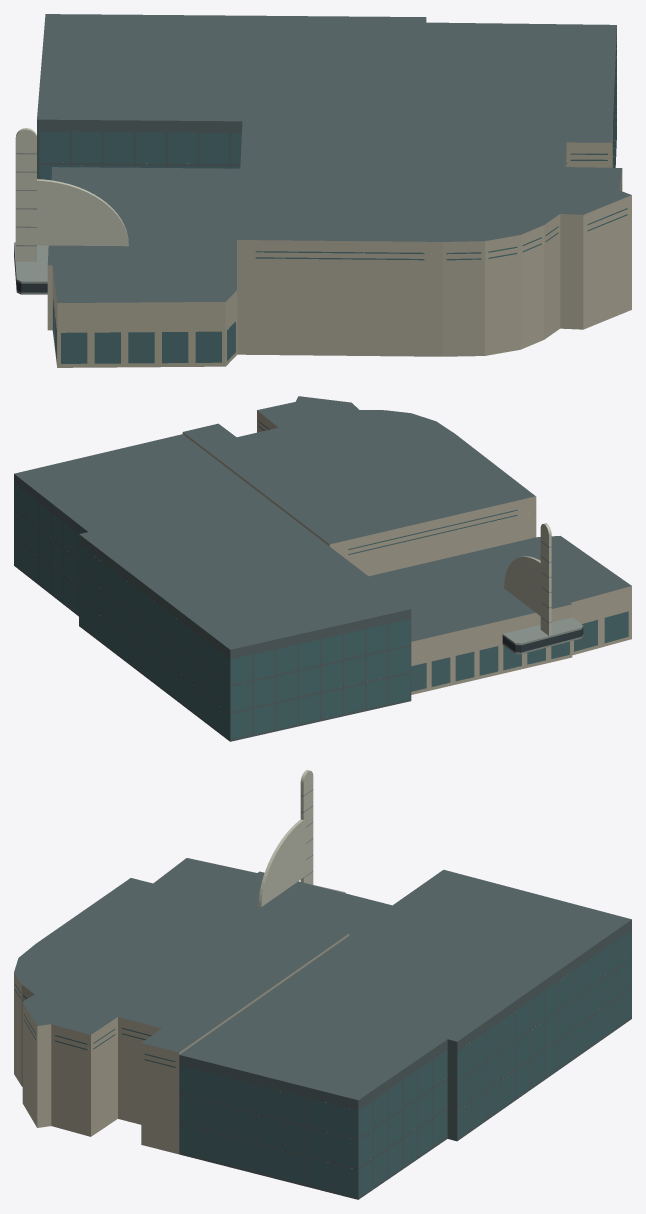
File: afi-silver-theatre-near.glb
The picture shows the model from 3 angles, top to bottom: view 1: azimuth 30°, elevation 25°; view 2: azimuth 150°, elevation 25°; view 3: azimuth 270°, elevation 25°; orthographic projection. The views are drawn at different scales.
Visible parts, largest first — view 1: afi-silver-theatre-0-steel, afi-silver-theatre-0-stone, afi-silver-theatre-0-glass, afi-silver-theatre-0-white, afi-silver-theatre-0-chrome; view 2: afi-silver-theatre-0-steel, afi-silver-theatre-0-glass, afi-silver-theatre-0-stone, afi-silver-theatre-0-white, afi-silver-theatre-0-chrome, afi-silver-theatre-0-screen; view 3: afi-silver-theatre-0-steel, afi-silver-theatre-0-glass, afi-silver-theatre-0-stone, afi-silver-theatre-0-white.
Boxes of the visible parts, box(x1,y1,x2,y2) form: afi-silver-theatre-0-steel: box(37, 14, 631, 302); afi-silver-theatre-0-stone: box(47, 126, 631, 367); afi-silver-theatre-0-glass: box(40, 40, 627, 363); afi-silver-theatre-0-white: box(15, 128, 128, 261); afi-silver-theatre-0-chrome: box(14, 153, 48, 294); afi-silver-theatre-0-steel: box(14, 396, 631, 741); afi-silver-theatre-0-glass: box(14, 421, 628, 739); afi-silver-theatre-0-stone: box(182, 410, 631, 694); afi-silver-theatre-0-white: box(504, 523, 551, 635); afi-silver-theatre-0-chrome: box(502, 541, 583, 654); afi-silver-theatre-0-screen: box(502, 627, 583, 652); afi-silver-theatre-0-steel: box(14, 858, 631, 1199); afi-silver-theatre-0-glass: box(14, 930, 631, 1196); afi-silver-theatre-0-stone: box(14, 933, 349, 1154); afi-silver-theatre-0-white: box(258, 770, 313, 906).
Size of the model in its own units: 78.39 by 20.6 by 71.96.
